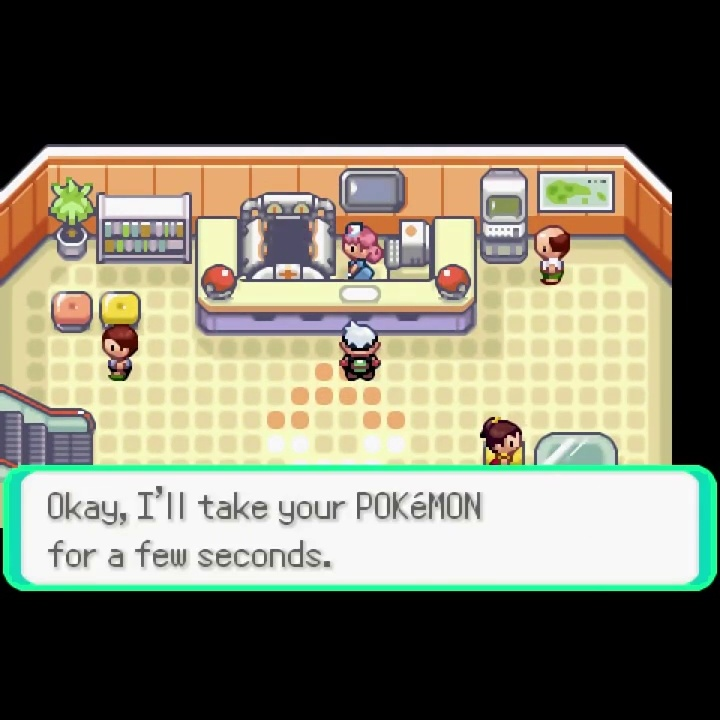npc: (337, 319, 384, 383), (533, 223, 573, 289), (340, 220, 384, 279), (478, 414, 525, 466), (100, 323, 140, 384)
